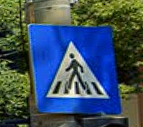trecere_pietoni: (21, 16, 124, 117)
